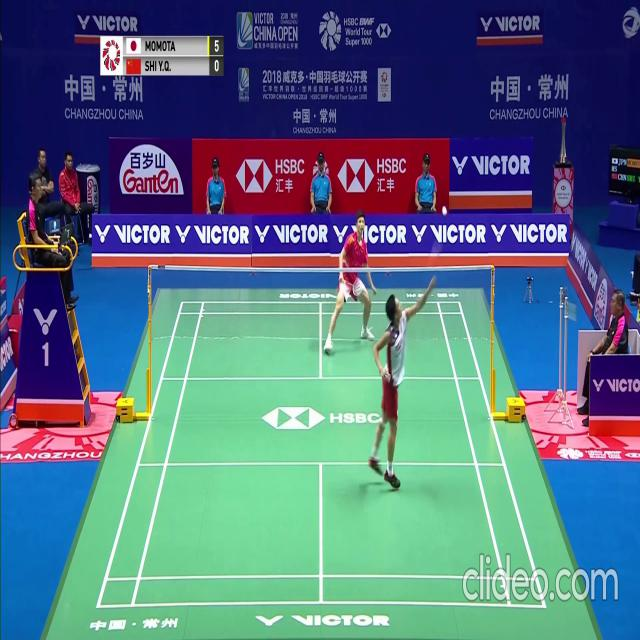Shuttlecock: (442, 207, 447, 215)
